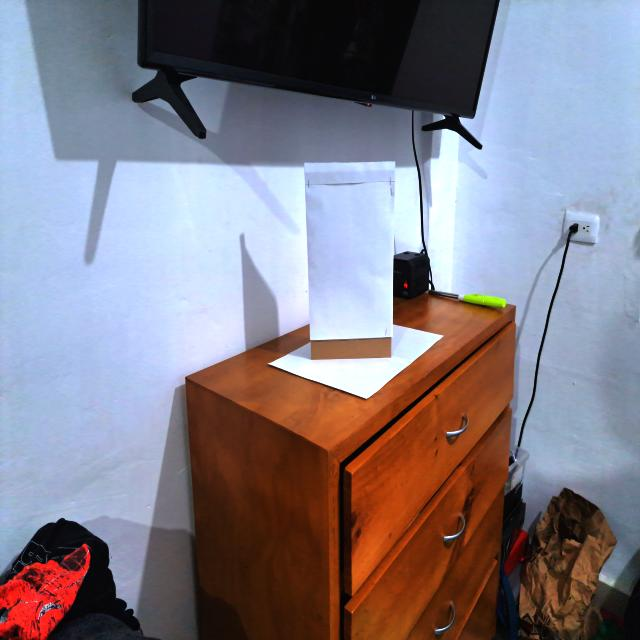wall: (302, 159, 397, 360)
